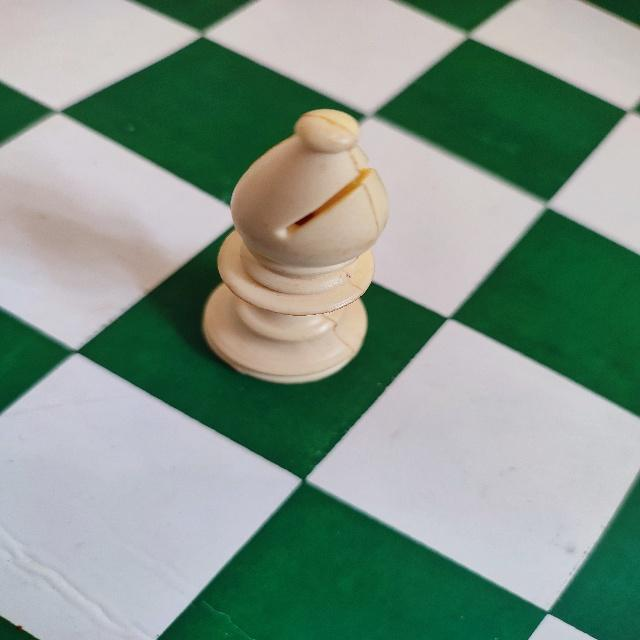Bishop: (199, 111, 391, 393)
